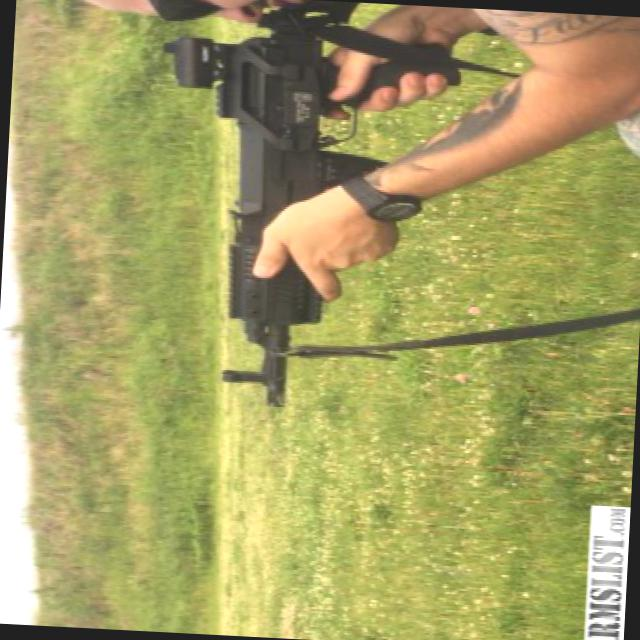long weapon: (150, 0, 400, 418)
